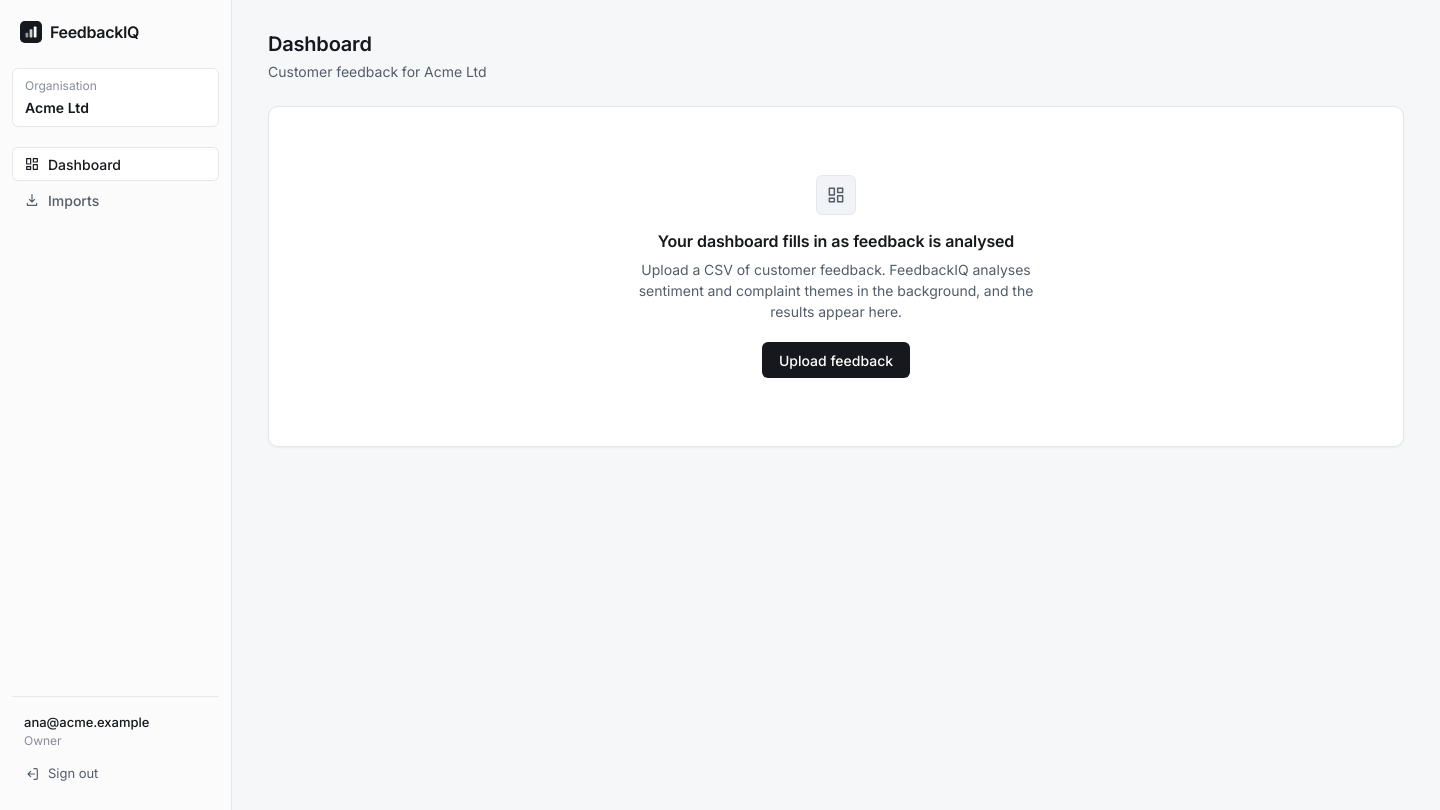
Test case: signing out › ends the session on the server, forgets the user and returns to sign-in
This screenshot has width=1440, height=810.
Click the button "Sign out" at (116, 774), box [12,758,219,790]
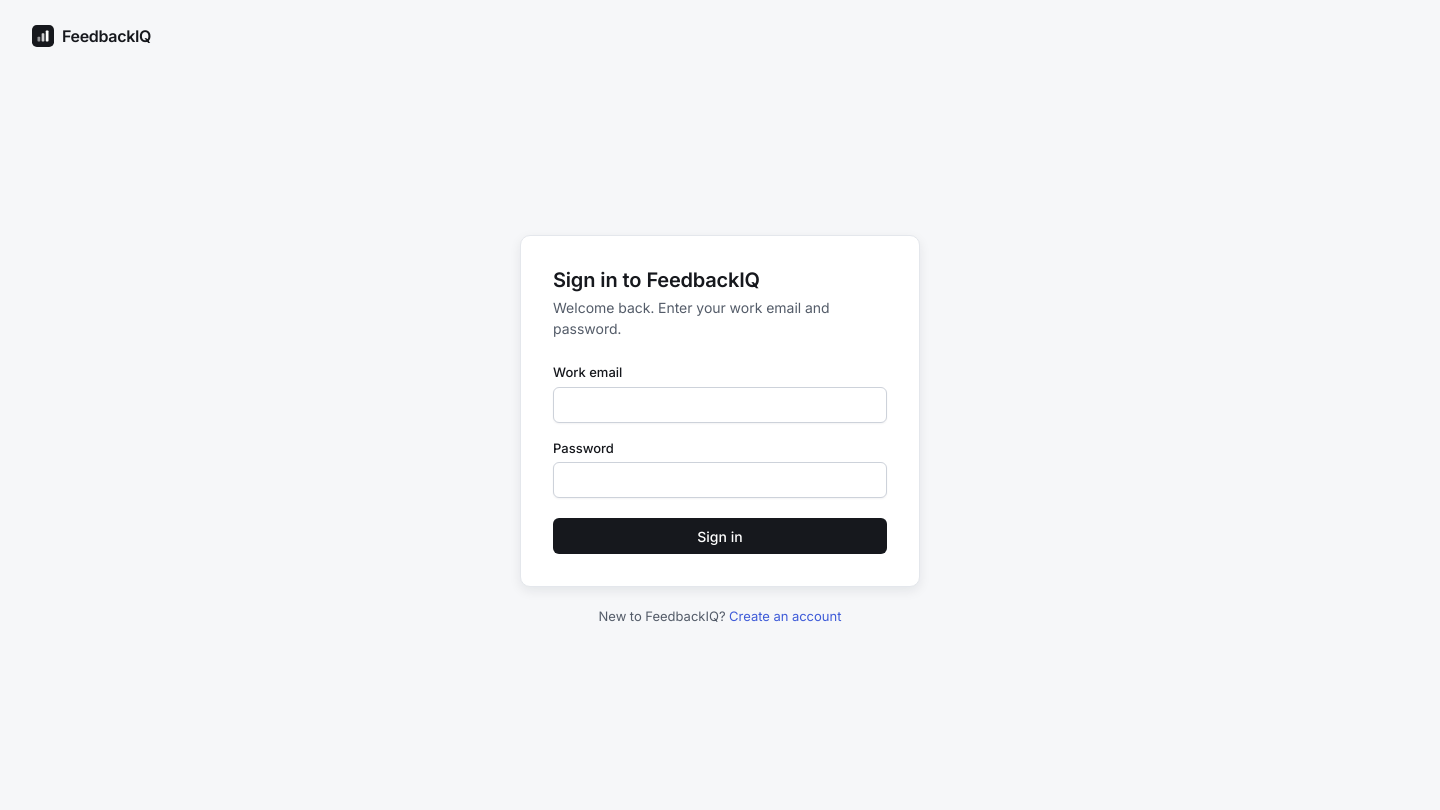
Result: the heading "Sign in to FeedbackIQ" is shown at [553,268,760,292]
Result: the text "Acme Ltd" is gone
Result: the text "ana@acme.example" is gone
